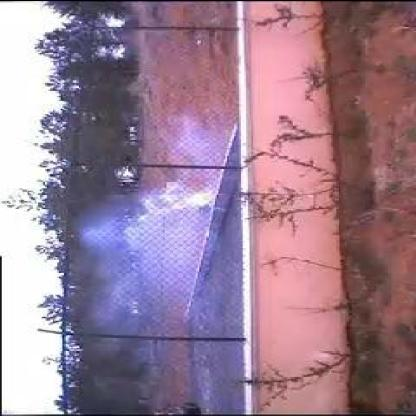-: (85, 169, 239, 342)
